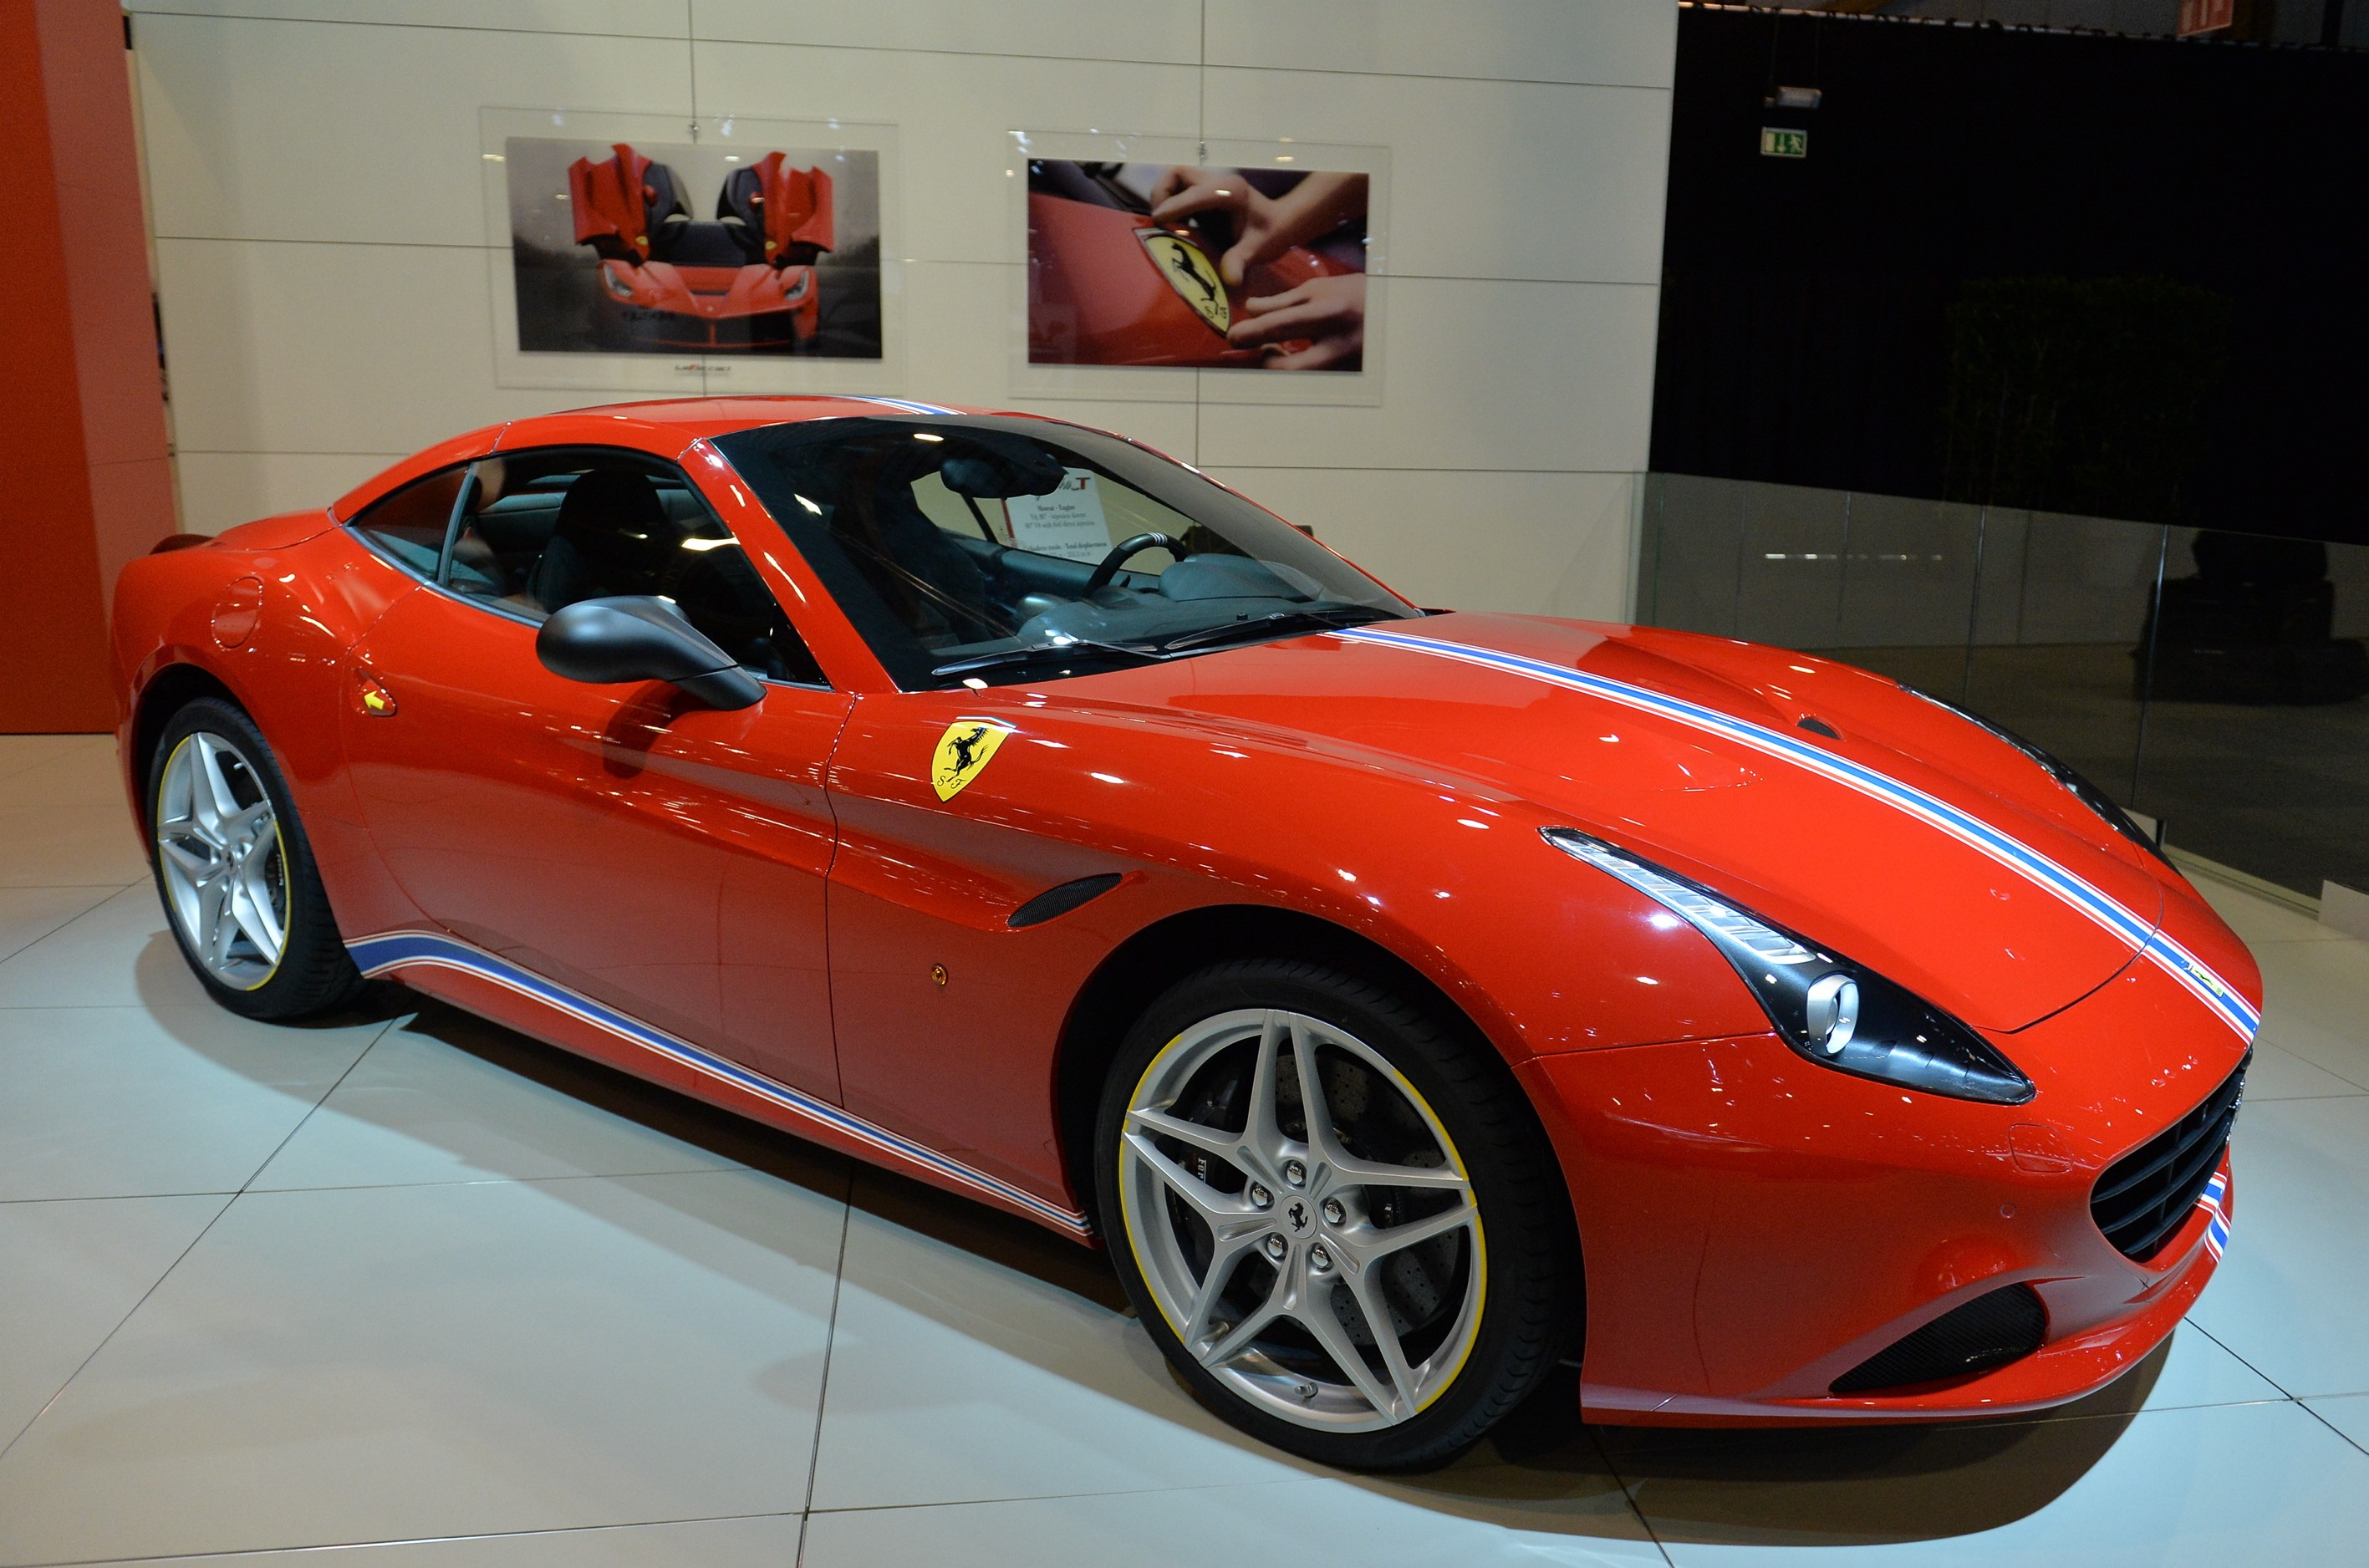headlight: (1739, 931, 2042, 1113)
wheel: (1069, 940, 1550, 1459), (119, 637, 334, 1027)
